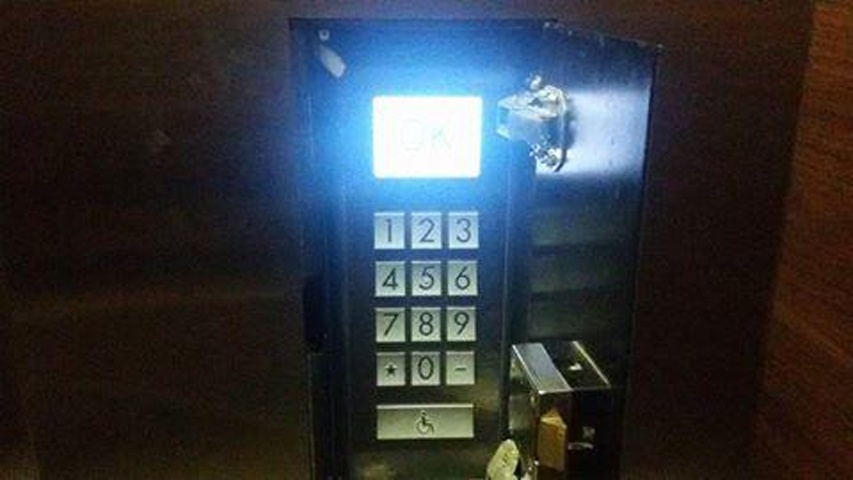-: (443, 348, 477, 388)
0: (408, 349, 443, 389)
1: (372, 209, 406, 252)
2: (408, 210, 445, 251)
3: (446, 210, 481, 252)
4: (372, 257, 406, 300)
5: (409, 257, 444, 298)
6: (444, 258, 480, 297)
7: (373, 304, 408, 345)
8: (409, 304, 443, 344)
9: (444, 304, 479, 344)
CH: (372, 400, 479, 443)
led: (366, 90, 490, 184)
s: (373, 349, 408, 389)
